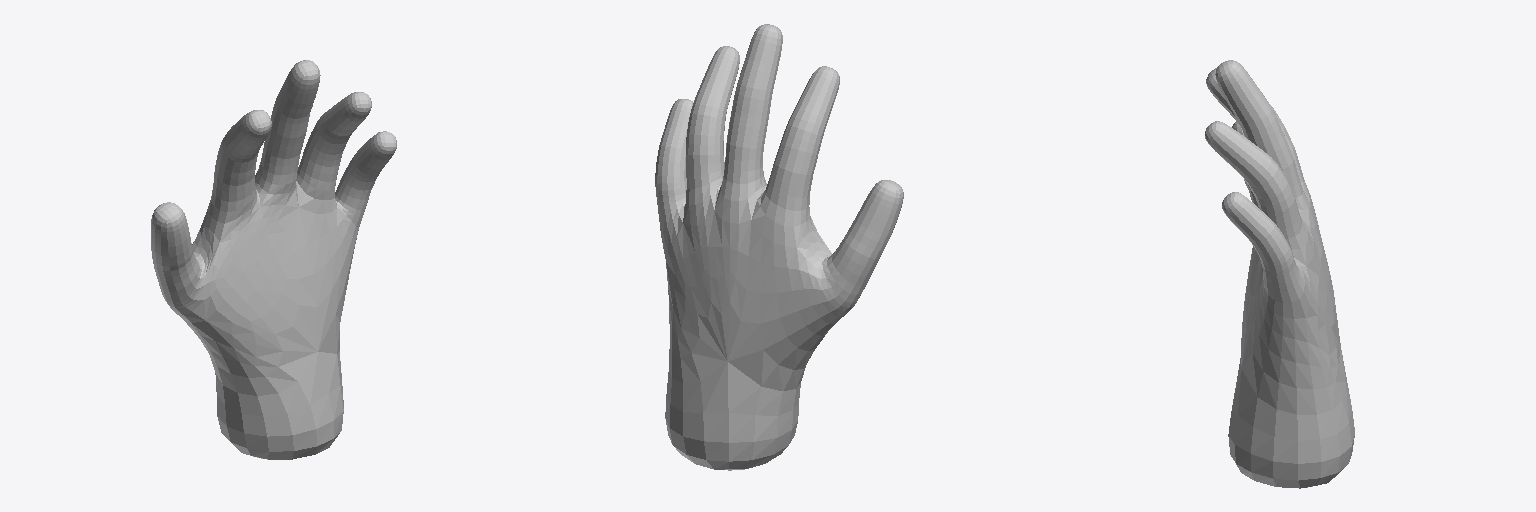
Rendered from handanimatsion7.obj.
3 views of the same model, side by side, from view 1: azimuth 30°, elevation 25°; view 2: azimuth 150°, elevation 25°; view 3: azimuth 270°, elevation 25° (orthographic).
Parts seen in each view (by area): view 1: Cube; view 2: Cube; view 3: Cube.
Boxes of the visible parts, box(x1,y1,x2,y2) form: Cube: box(151, 60, 396, 459); Cube: box(655, 24, 903, 470); Cube: box(1205, 60, 1354, 488).
Size of the model in its own units: 3.77 by 6.34 by 2.09.